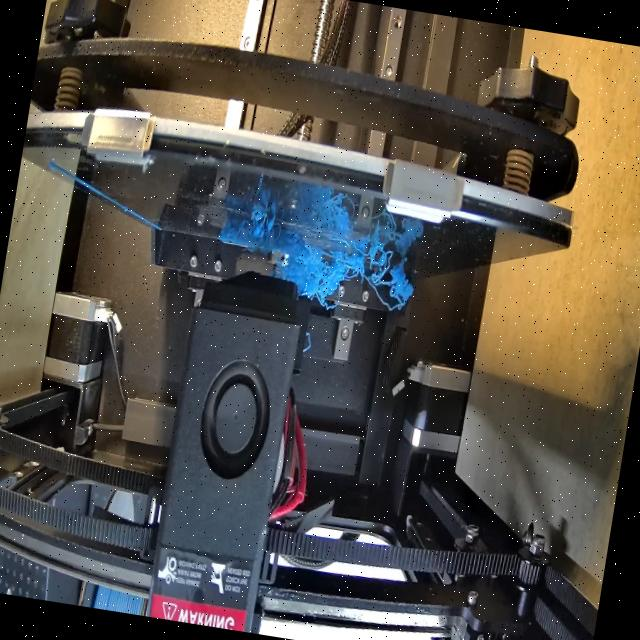spaghetti: (273, 225, 414, 310), (228, 202, 283, 270)
